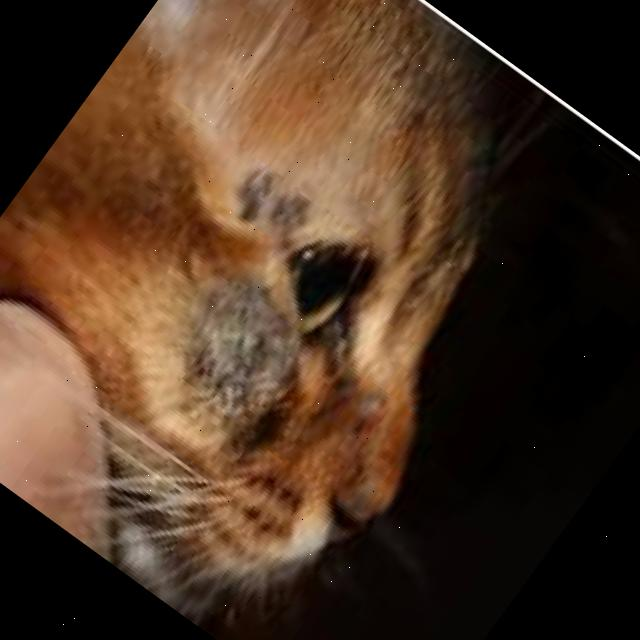cat-dermatitis: (170, 270, 298, 404), (225, 162, 318, 254), (350, 393, 390, 436)
